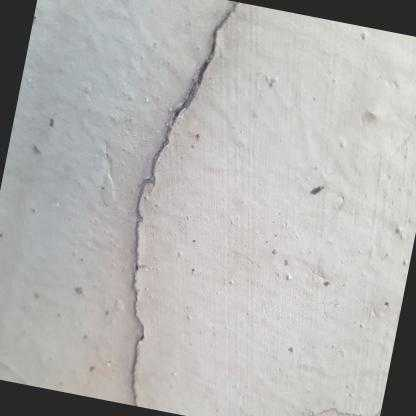crack: (130, 1, 237, 406)
